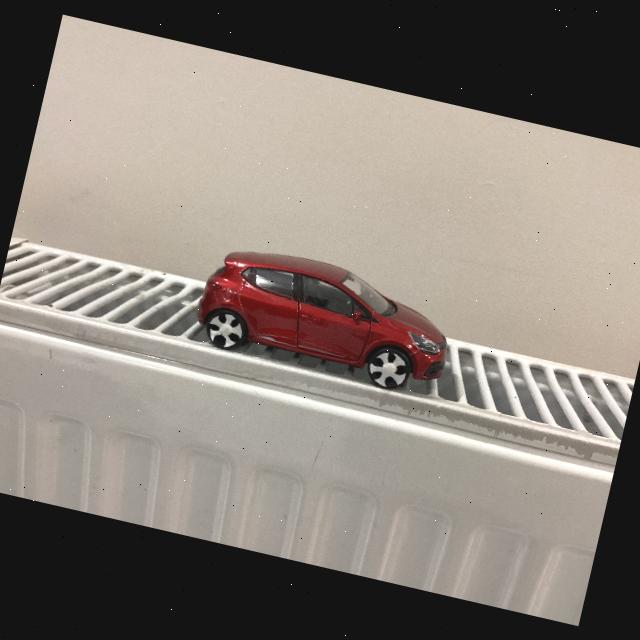Yanlis_Jant: (366, 346, 412, 391), (203, 309, 246, 350)
